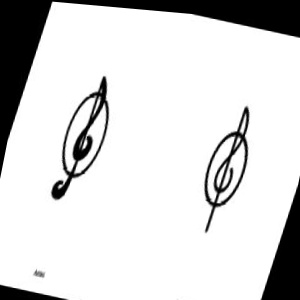stradivarius: (112, 53, 300, 157), (100, 38, 156, 102)
